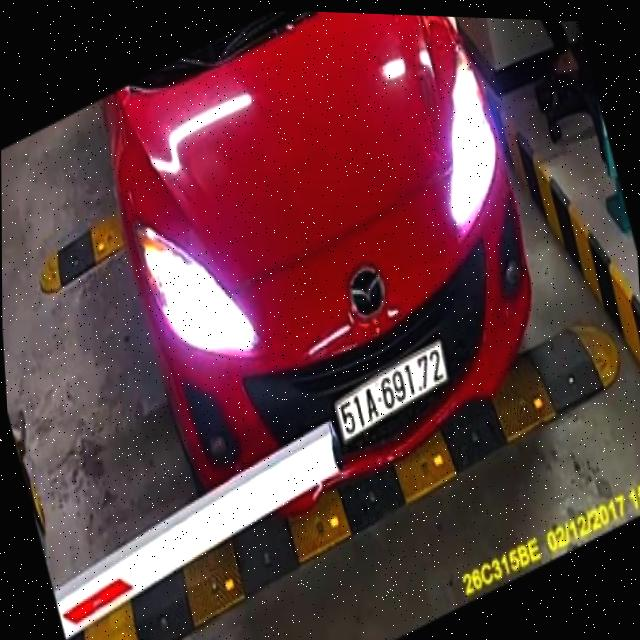car: (100, 4, 550, 537)
plate: (329, 337, 456, 450)
